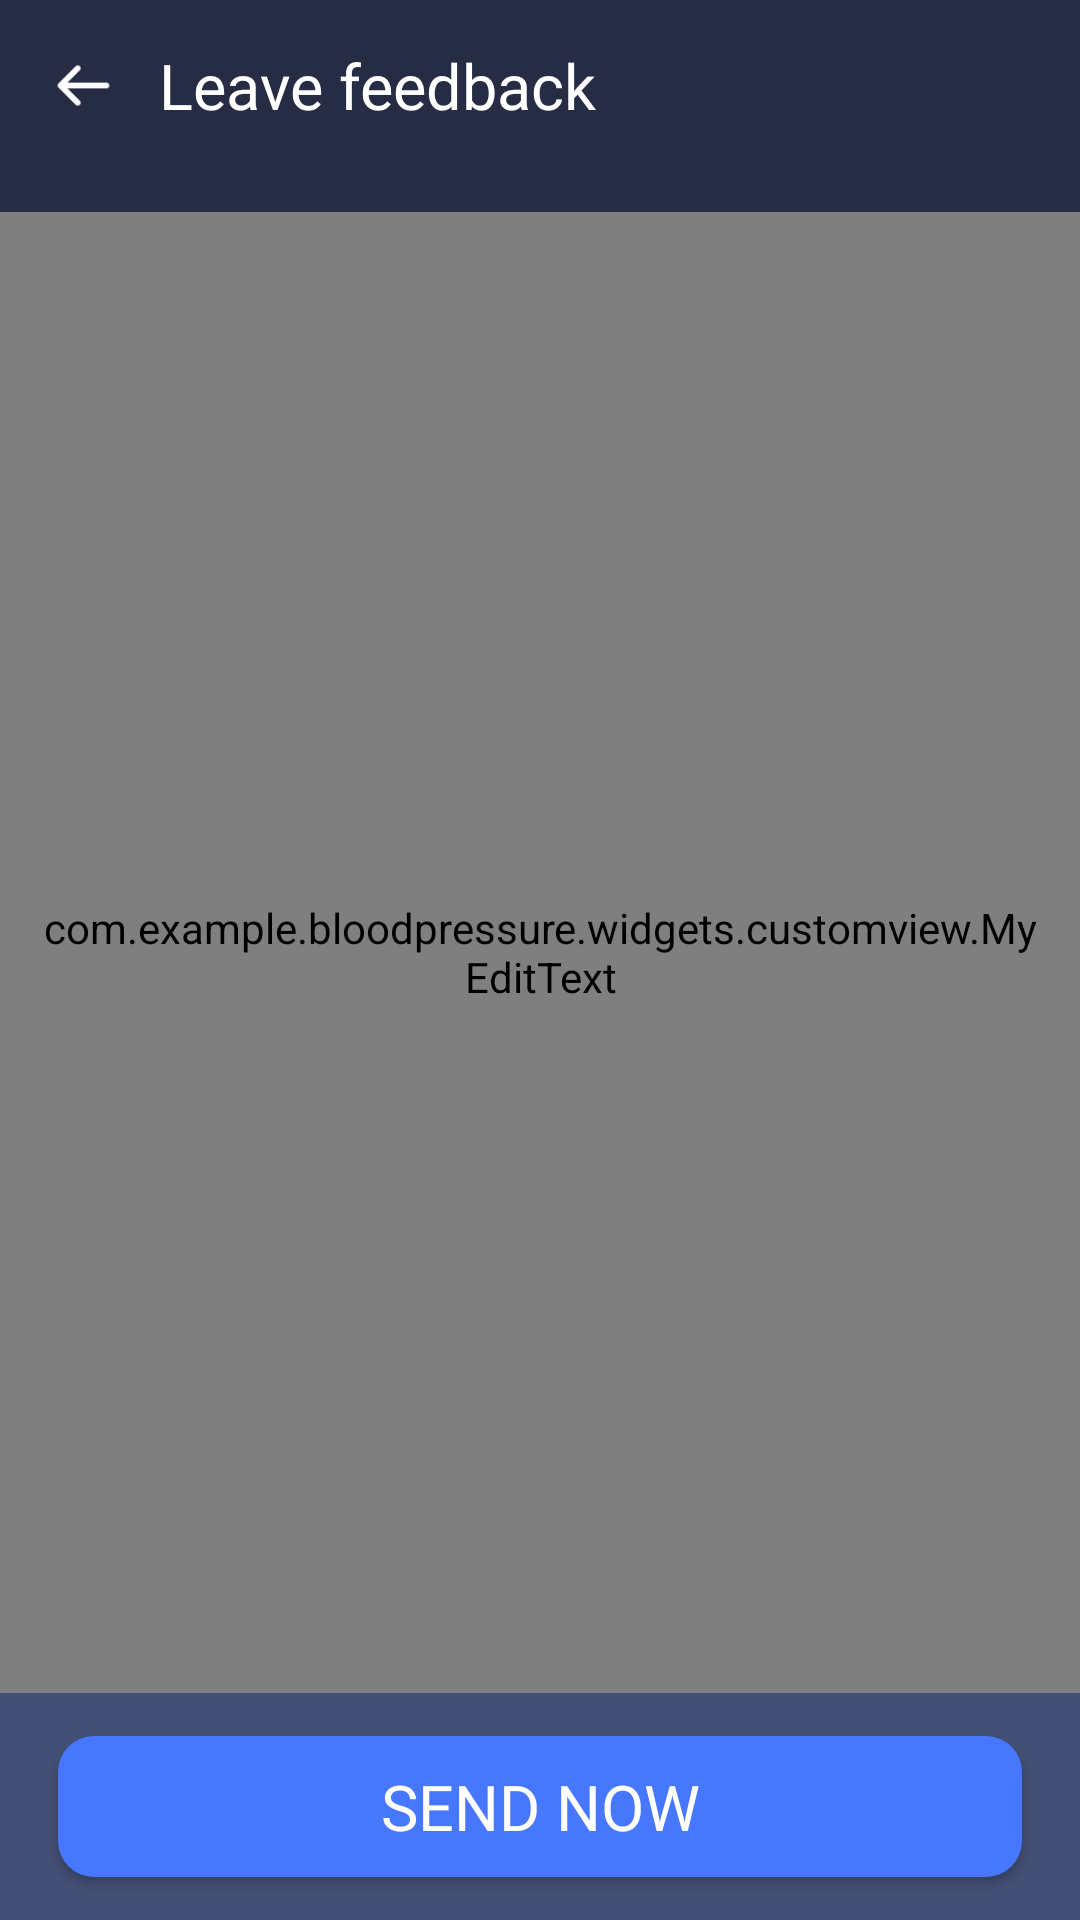

Icons on this 1080*1920 Android screen, each with the point to tap as (x,y):
general back: (83,85)
